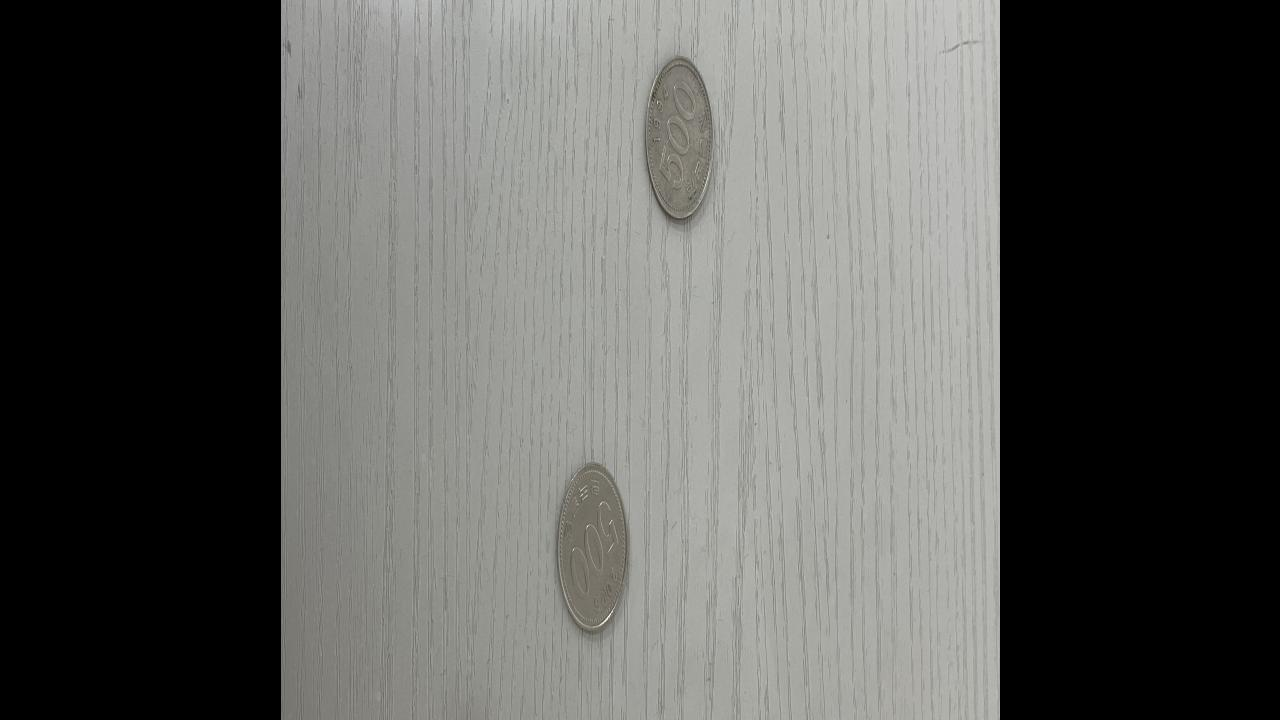coin: (555, 459, 630, 640), (643, 52, 715, 222)
